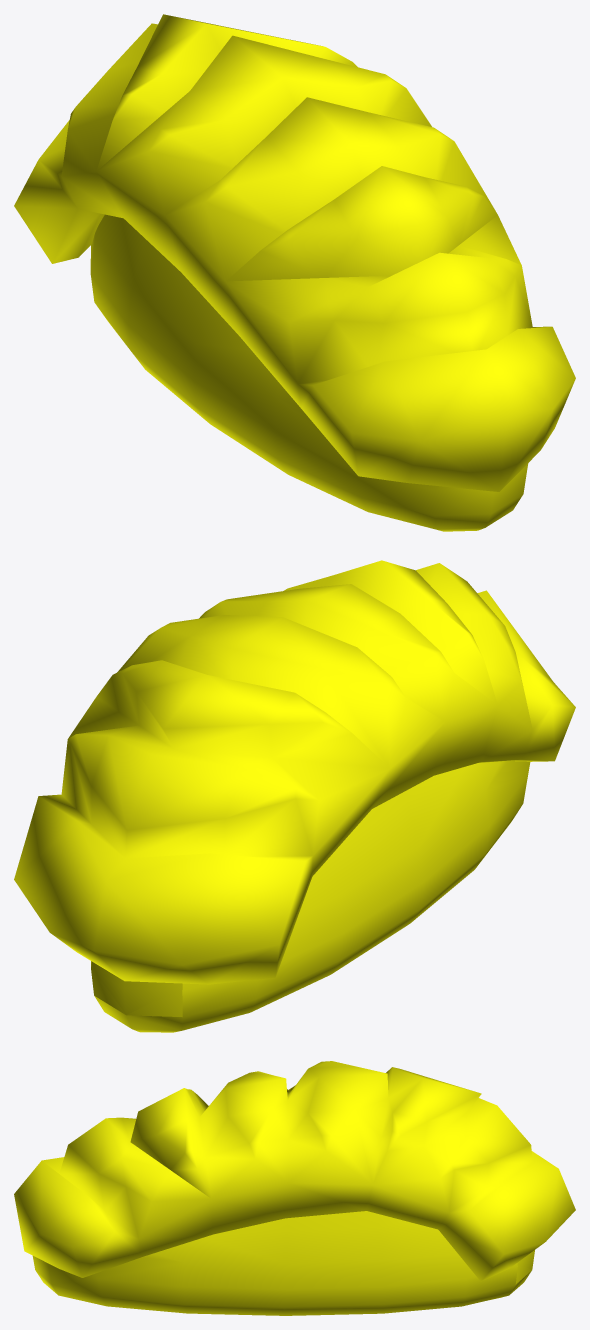
3 views of the same model, one above another, from view 1: azimuth 30°, elevation 25°; view 2: azimuth 150°, elevation 25°; view 3: azimuth 270°, elevation 25° (orthographic). The views are drawn at different scales.
Parts seen in each view (by area): view 1: sushi_004; view 2: sushi_004; view 3: sushi_004.
Part boxes in pixels (left/top/right/bottom): sushi_004: left=14, top=14, right=575, bottom=531; sushi_004: left=14, top=560, right=575, bottom=1032; sushi_004: left=14, top=1061, right=575, bottom=1315.
Size of the model in its own units: 0.0381 by 0.0399 by 0.0927.
1 material, 1 textured.
